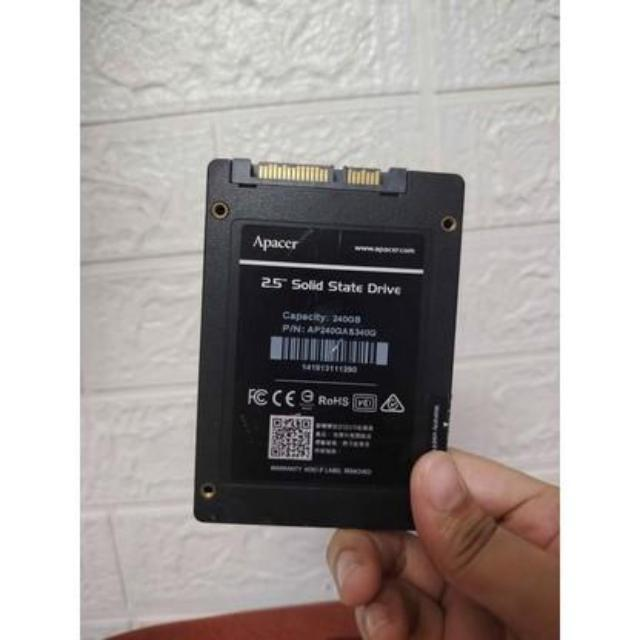DISK: (190, 146, 468, 540)
